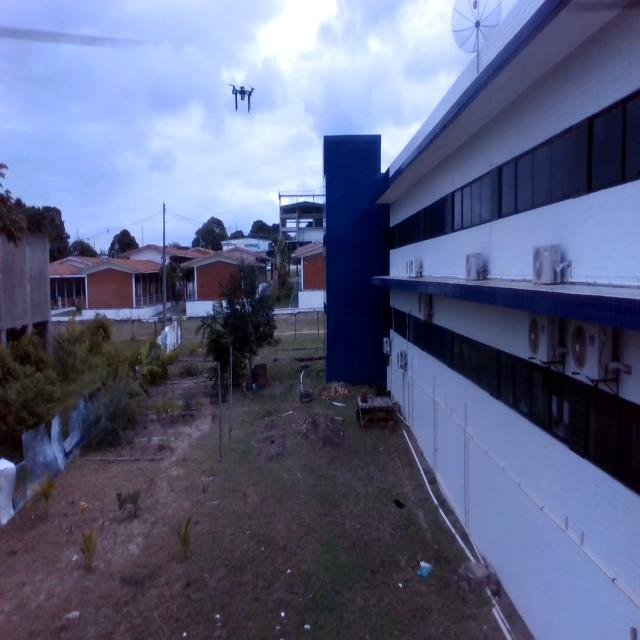-uav-: (223, 76, 265, 128)
